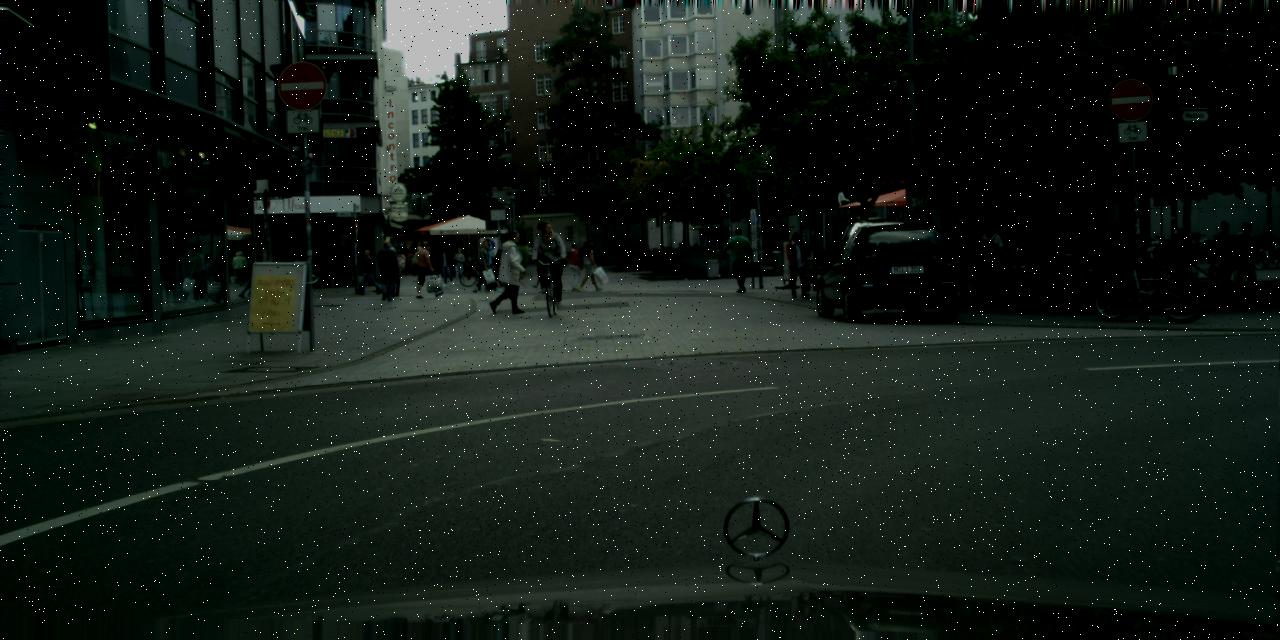ped: (940, 209, 980, 309), (492, 229, 526, 311), (531, 220, 563, 300), (964, 224, 994, 302), (1025, 219, 1055, 292), (977, 223, 1004, 293), (1232, 222, 1259, 289), (726, 228, 752, 292), (784, 232, 810, 296), (1212, 221, 1237, 285), (1002, 227, 1027, 290), (374, 240, 398, 302), (415, 240, 438, 298), (579, 238, 600, 290), (474, 240, 495, 292), (379, 245, 400, 296), (1171, 227, 1191, 277), (564, 242, 584, 290), (481, 237, 500, 285), (359, 248, 377, 294), (538, 243, 556, 288), (438, 244, 453, 285), (360, 253, 375, 290), (452, 247, 466, 281), (412, 246, 424, 275), (409, 242, 418, 266), (526, 244, 532, 262)
